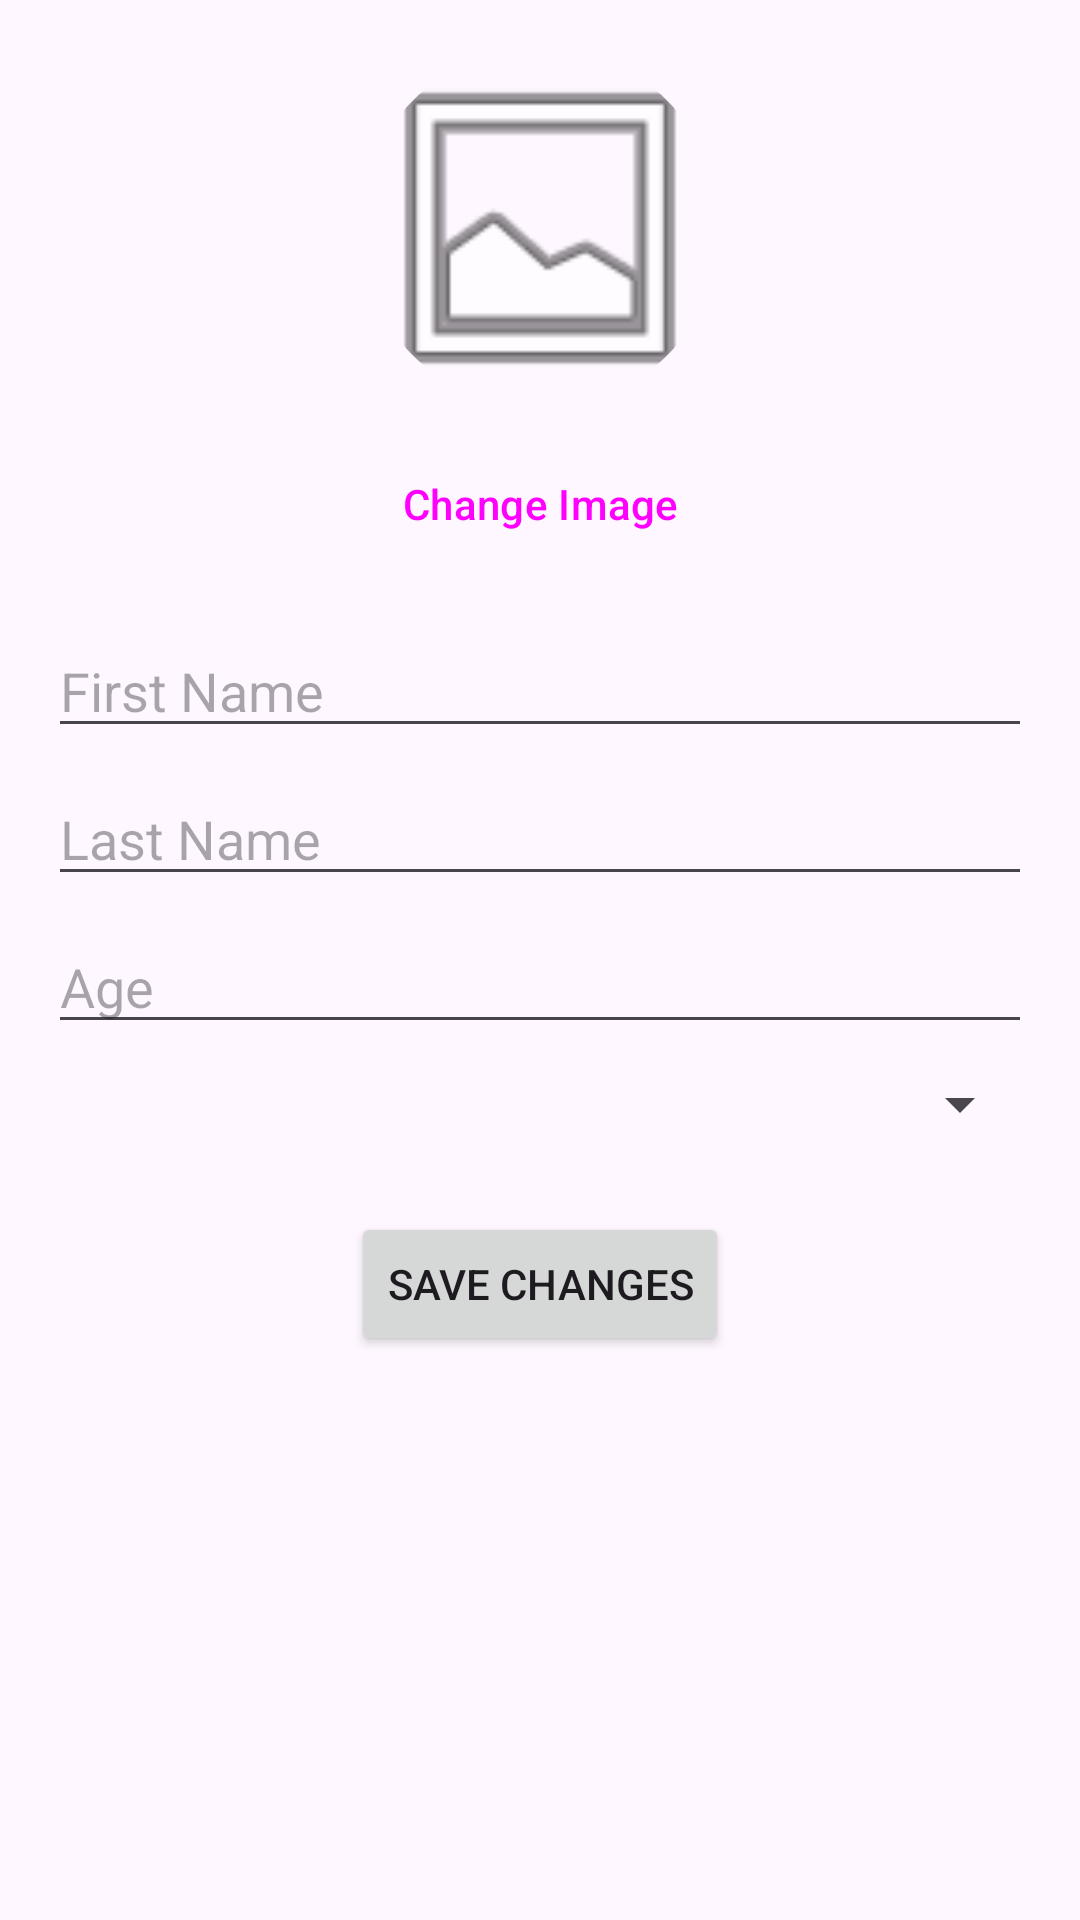

Icons on this 1080px x 1920px Android screen, each with the point to tap as point (x, y):
gallery: point (540, 228)
